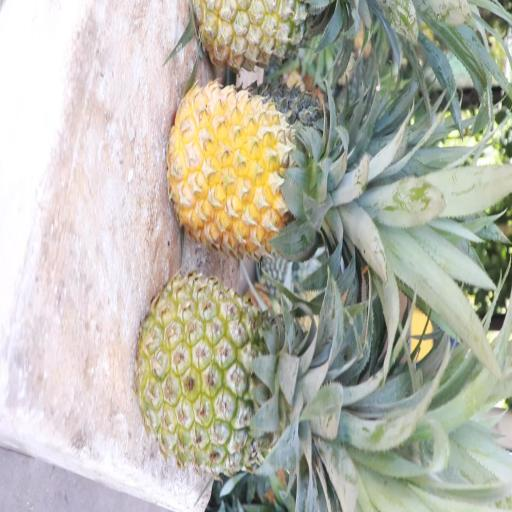------------------------------: (139, 279, 335, 474), (192, 0, 322, 75)
Pineapple - v8 v1: (170, 80, 340, 242)
